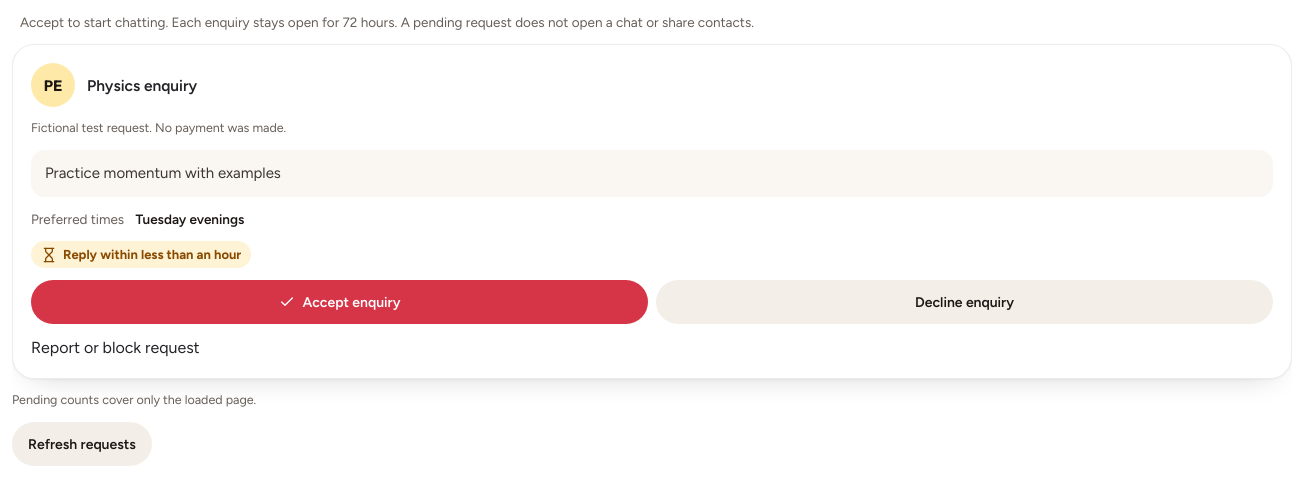
Test: declines without opening chat and refreshes the authoritative status
Expected: the heading "Physics enquiry" is shown, [87, 76, 197, 95]
Step 1. Click the button "Decline enquiry" → x=964, y=302, box [656, 280, 1273, 324]
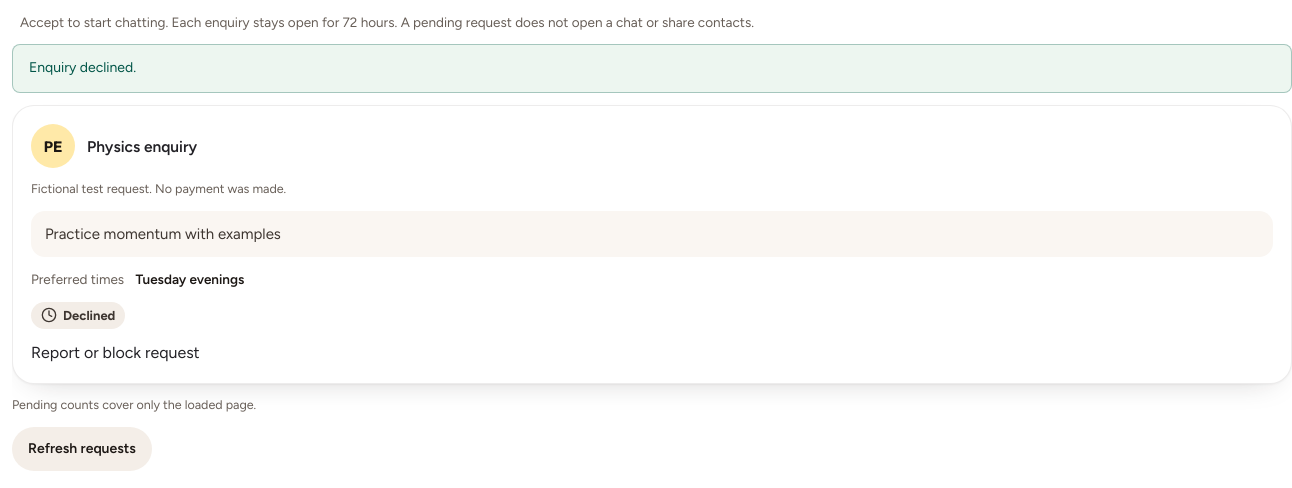
Expected: the text "Declined" is shown, [31, 302, 125, 329]
Expected: the text "Enquiry declined." is shown, [12, 44, 1291, 93]
